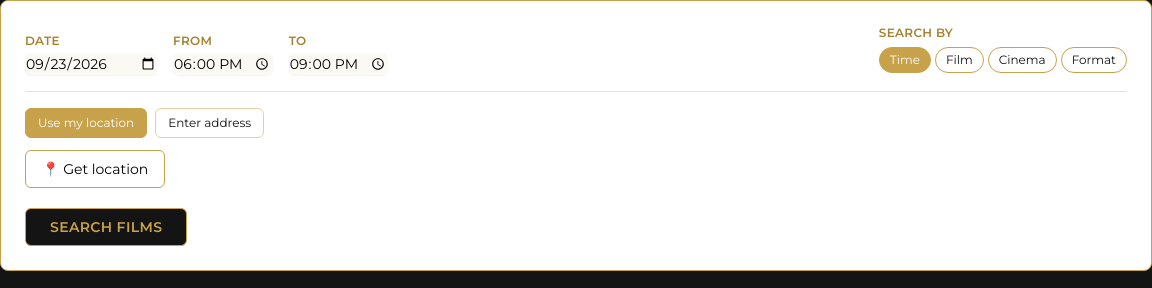
it: mode switching › switches to Cinema mode and shows cinema input
Click the button "Cinema" at [1022, 60], box [988,47,1057,73]
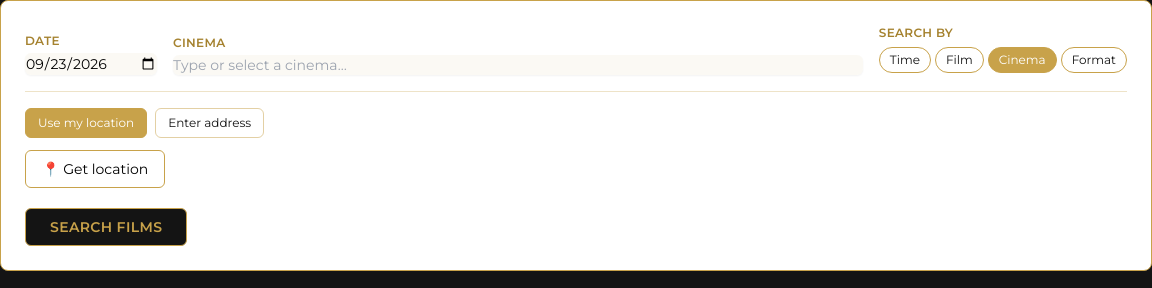
Now the field labelled "Cinema" is shown, box [173,55,863,75]
Now the label labelled "From" is gone
